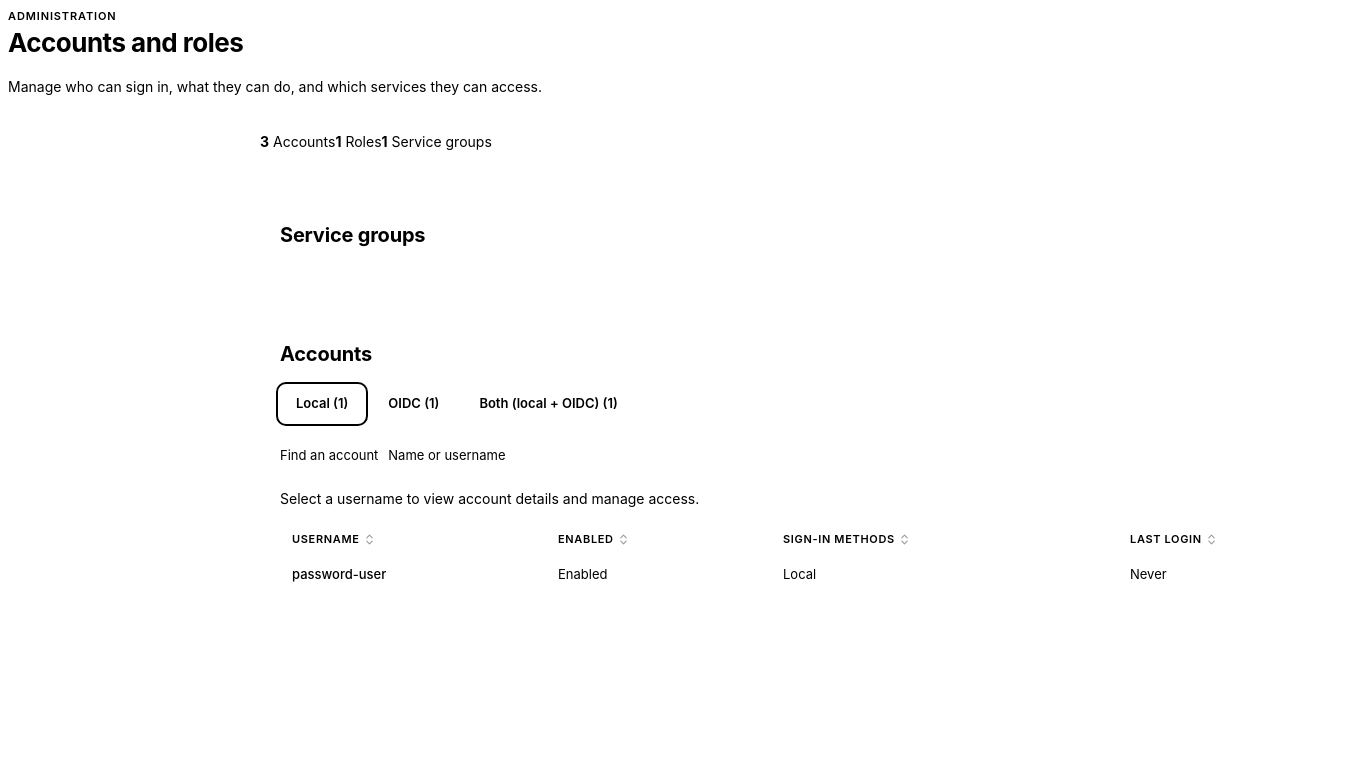
Scenario: separates sign-in methods using real credentials instead of account origin
The width and height of the screenshot is (1366, 768).
Expected: the button "password-user" is shown, [292, 565, 386, 584]
Expected: the button "provider-user" is not shown
Click the button "OIDC (1)" at (414, 404), box [372, 386, 455, 422]
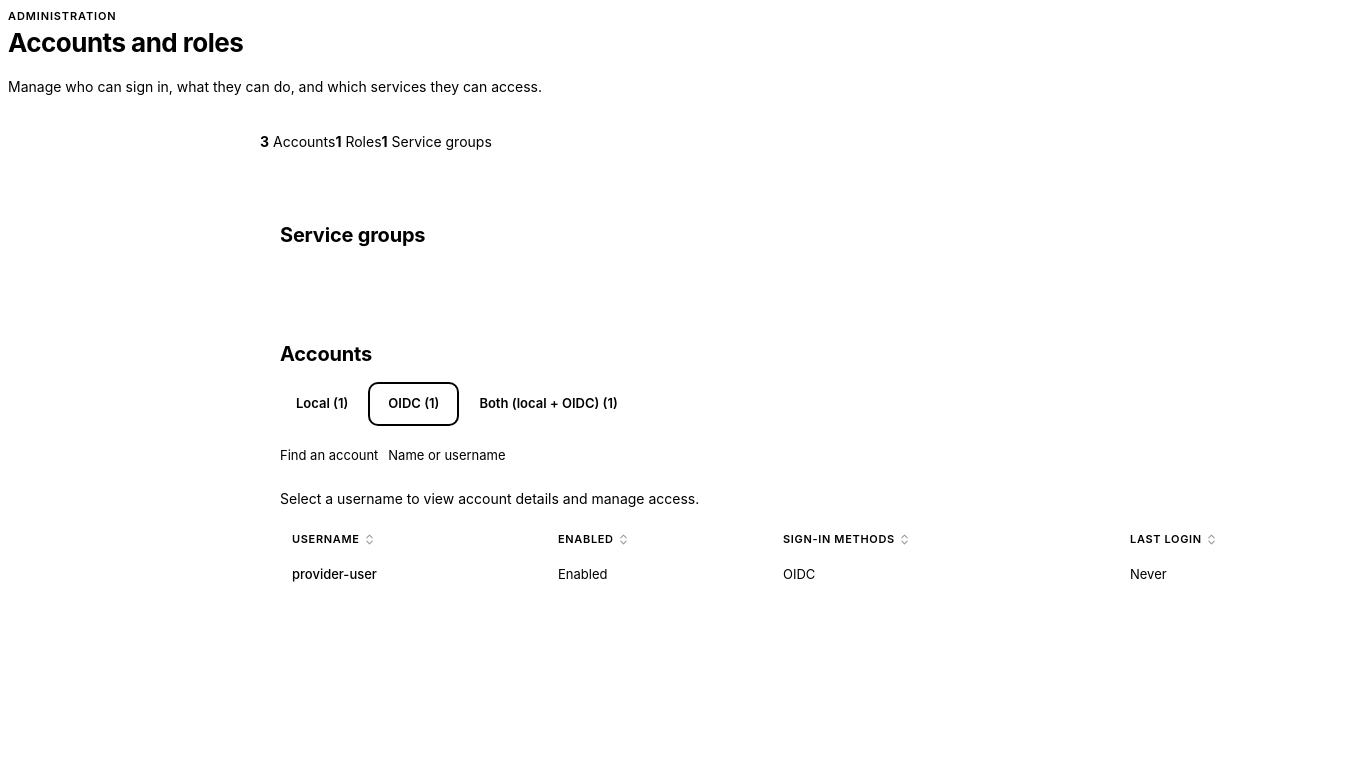
Now the button "provider-user" is shown, box [292, 565, 377, 584]
Click the button "Both (local + OIDC) (1)" at (549, 404), box [463, 386, 634, 422]
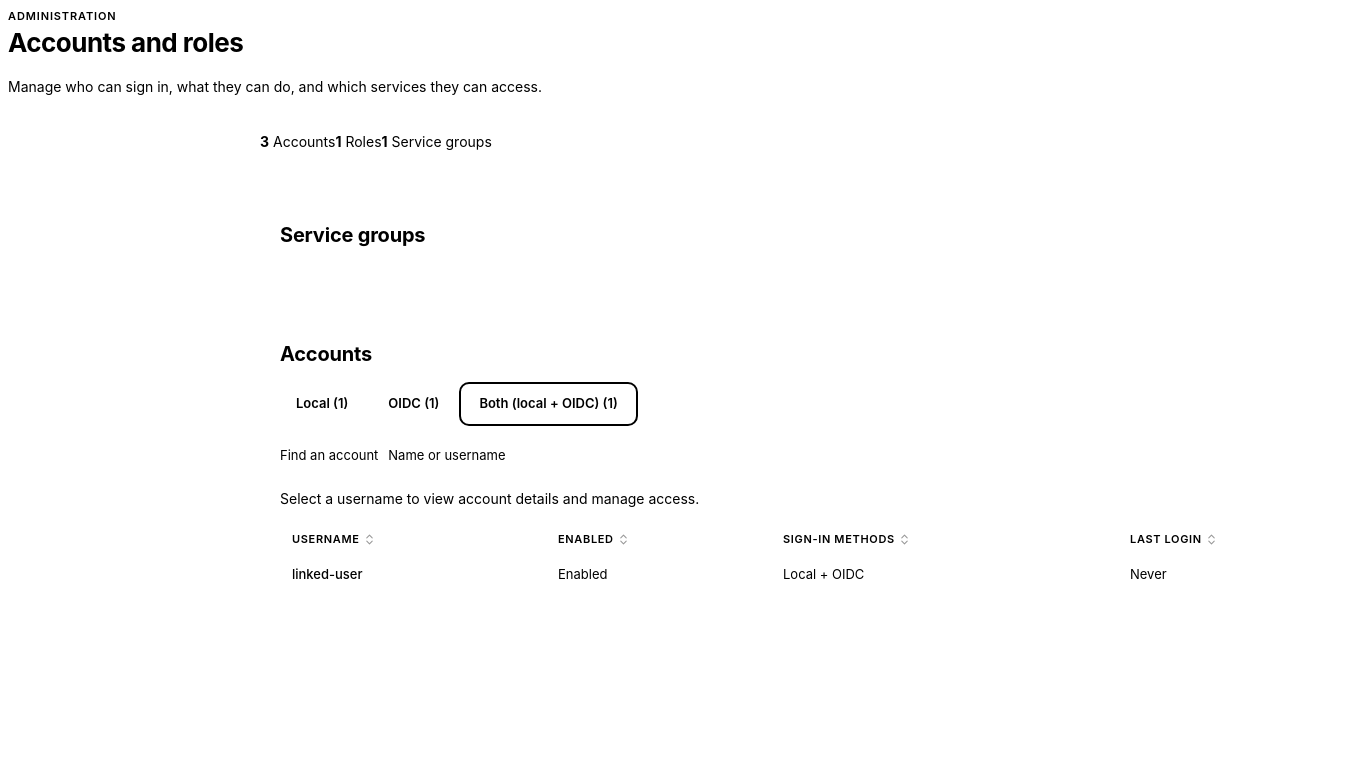
Now the button "linked-user" is shown, box [292, 565, 362, 584]
Now the text "Local + OIDC" is shown, box [783, 566, 864, 582]
Type "missing" into the search field labelled "Find an account" at (489, 456), box [378, 438, 600, 474]
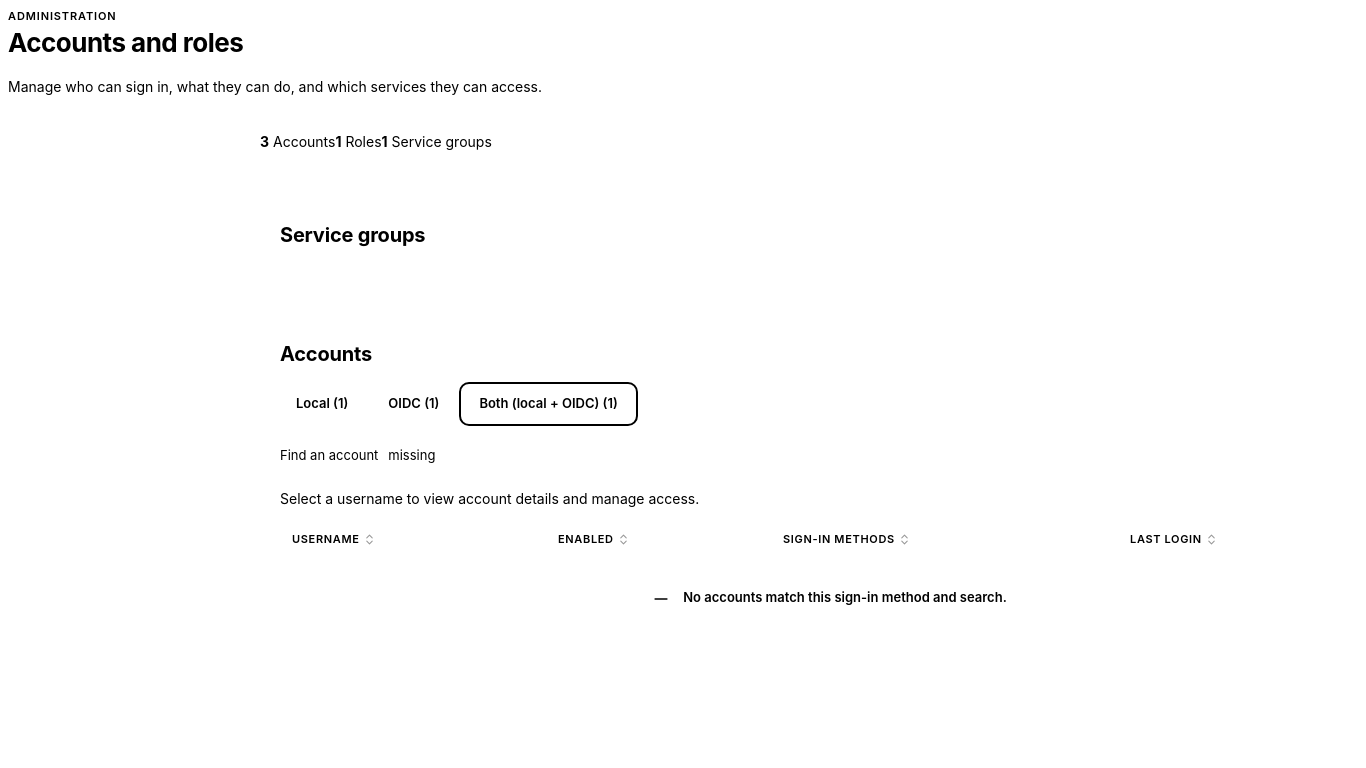
Now the text "No accounts match this sign-in method and search." is shown, box [683, 588, 1007, 607]
